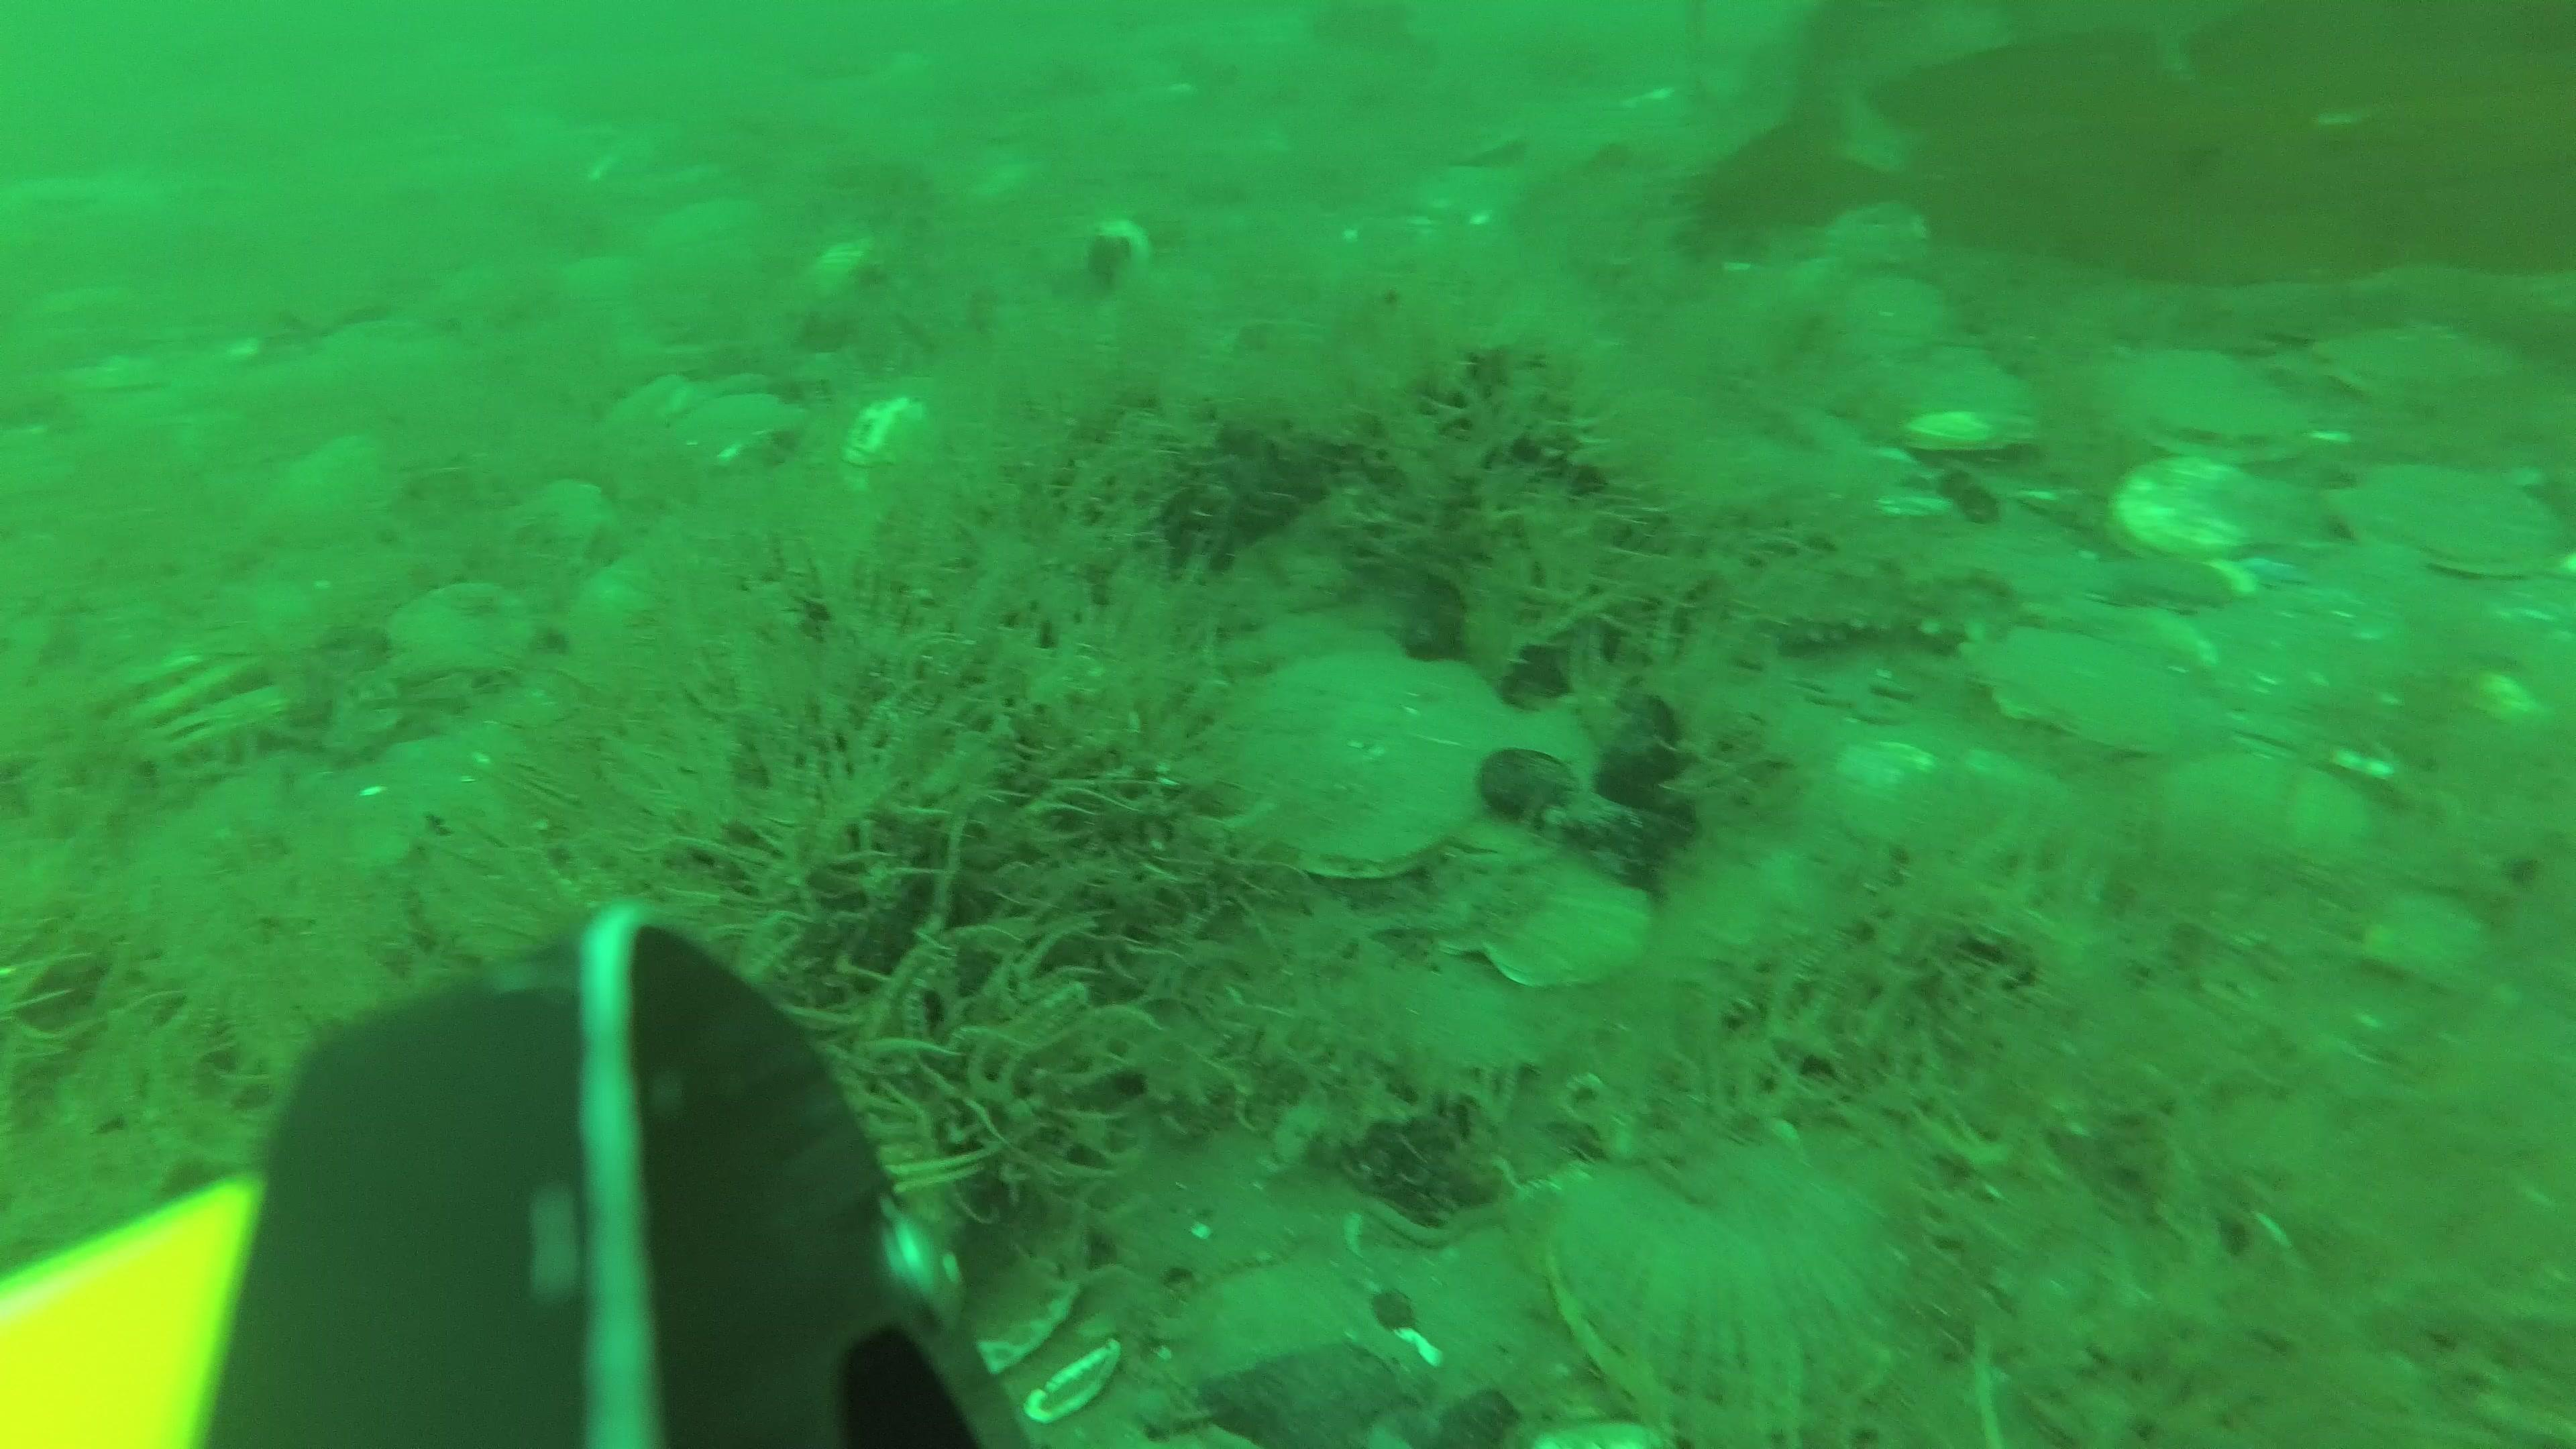holothurian: (1729, 552, 2024, 653)
scallop: (1552, 1104, 1936, 1430), (1208, 639, 1539, 892), (1355, 1217, 1592, 1440), (1196, 1263, 1415, 1449), (1974, 621, 2217, 770), (2157, 754, 2378, 902), (2192, 573, 2413, 722), (2346, 448, 2565, 593), (1431, 697, 1608, 872), (2102, 341, 2312, 471), (1470, 849, 1649, 1001), (2114, 444, 2302, 568), (1380, 952, 1541, 1077), (1886, 357, 2045, 462), (387, 580, 538, 686), (2316, 322, 2480, 416), (2351, 892, 2484, 989), (150, 692, 283, 787), (124, 658, 257, 752), (1829, 283, 1959, 377), (508, 481, 621, 577), (1819, 200, 1936, 281), (94, 635, 203, 711)
